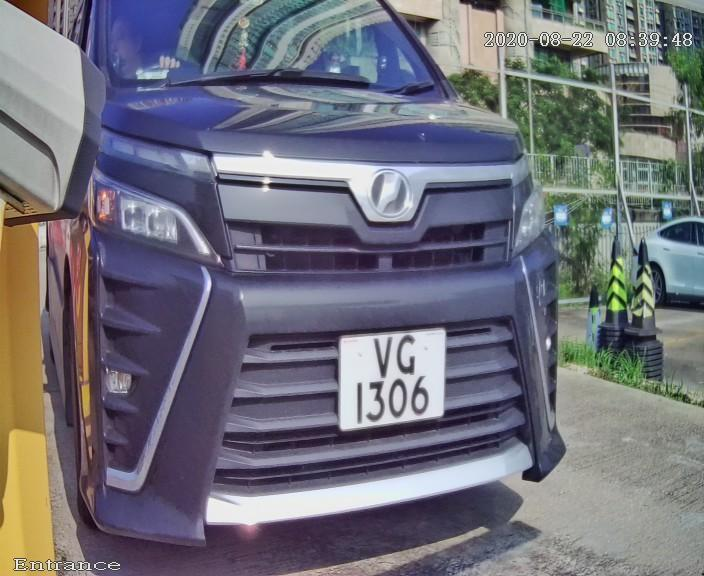License Plate: (327, 317, 459, 443)
